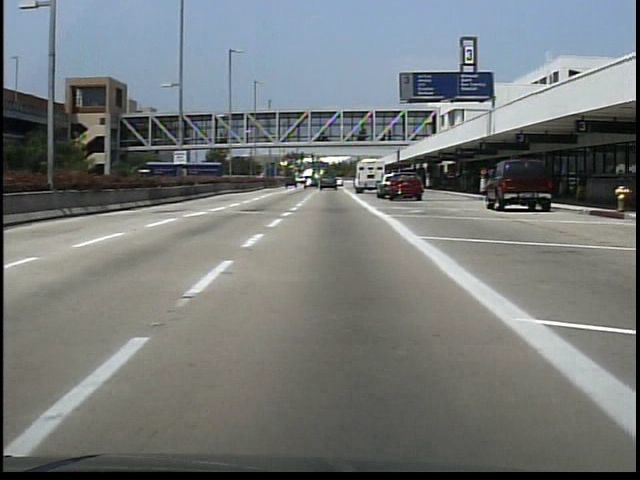person: (411, 171, 427, 199)
